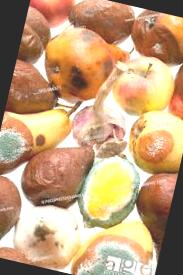Orange Rotten: (35, 16, 129, 106), (115, 104, 183, 180)
